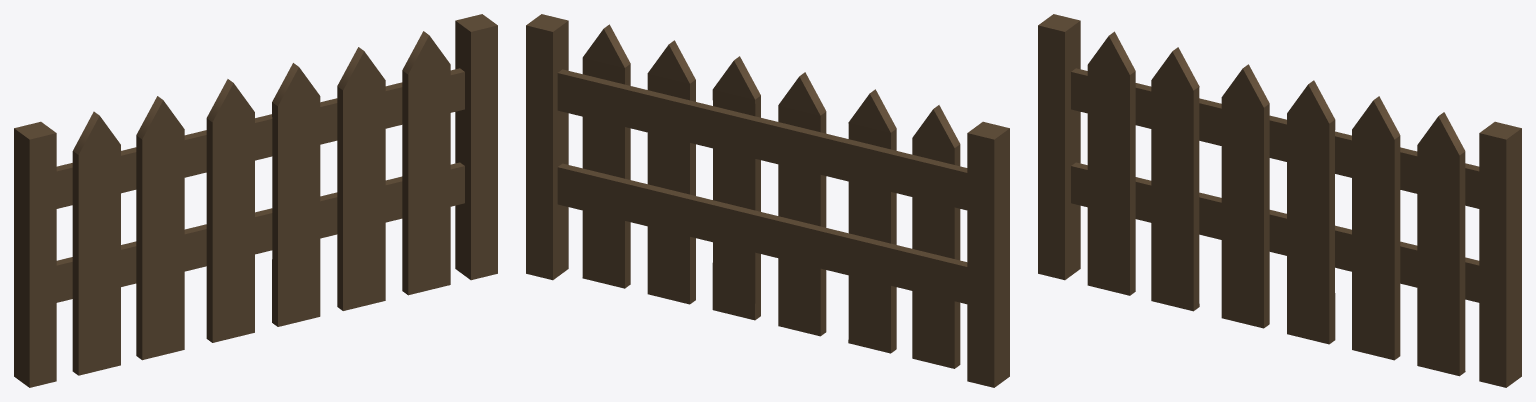
The model's file is fence_03.FBX.
3 renders of one model, left to right at view 1: azimuth 30°, elevation 25°; view 2: azimuth 150°, elevation 25°; view 3: azimuth 330°, elevation 25°, orthographic.
Parts seen in each view (by area): view 1: fence_03; view 2: fence_03; view 3: fence_03.
Part boxes in pixels (x1,y1,x2,y2): fence_03: [14, 14, 497, 387]; fence_03: [526, 14, 1009, 387]; fence_03: [1038, 14, 1521, 387].
Size of the model in its own units: 101 by 52.46 by 5.81.
1 material, 1 textured.
